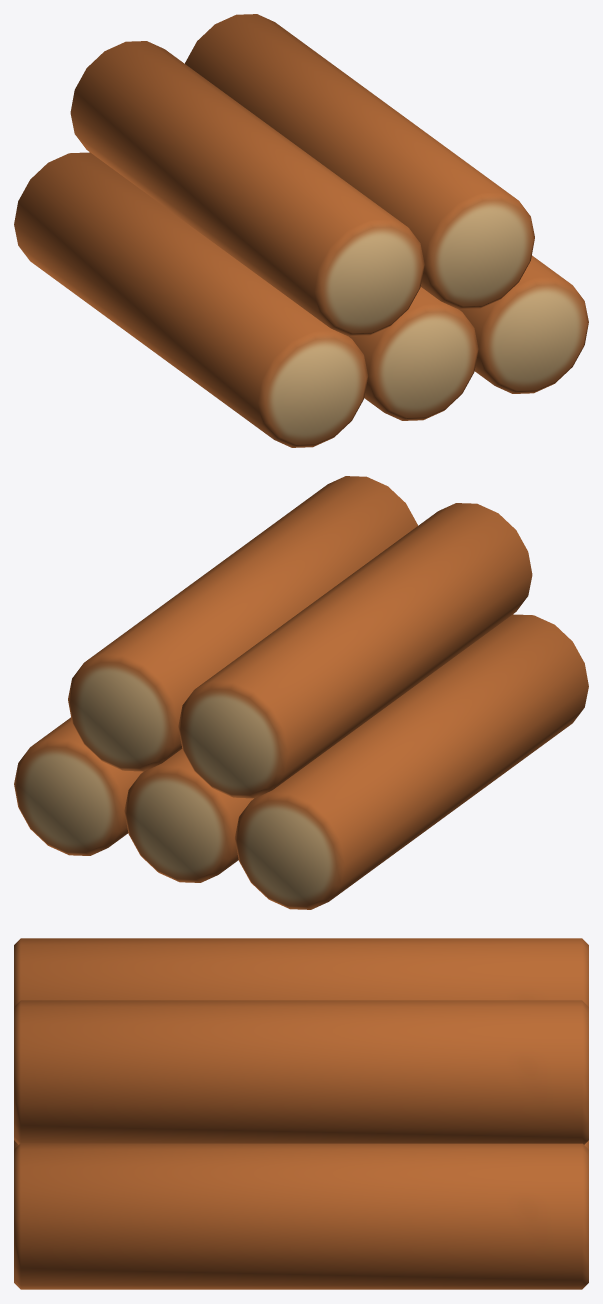
The model's file is woodpile.fbx.
3 views of the same model, one above another, from view 1: azimuth 30°, elevation 25°; view 2: azimuth 150°, elevation 25°; view 3: azimuth 270°, elevation 25° (orthographic). The views are drawn at different scales.
Visible parts, largest first — view 1: woodpile; view 2: woodpile; view 3: woodpile.
Boxes of the visible parts, x1,y1,x2,y2 form: woodpile: (14,14,588,447); woodpile: (14,476,588,909); woodpile: (14,938,588,1289).
Bounding box in the file's own units: 75.95 × 46.73 × 99.22.
Materials: 1 (1 with a texture image).
